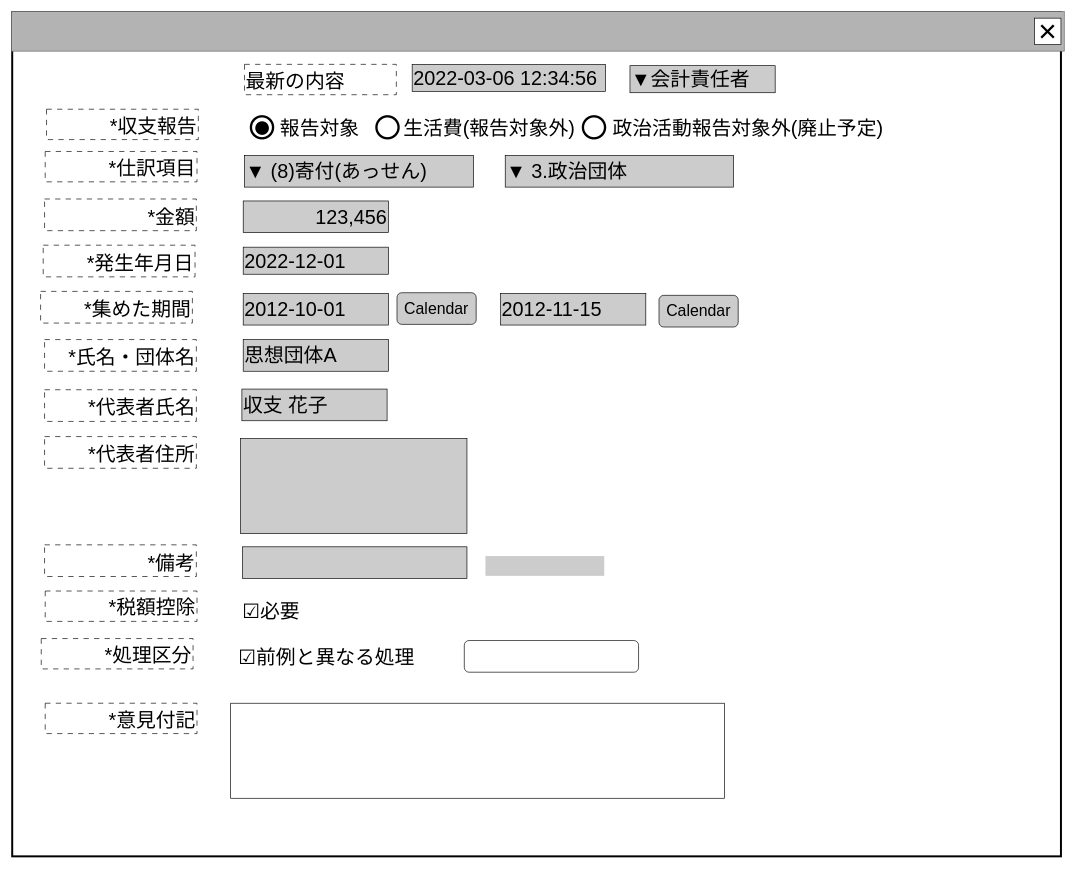
Image size: 1076x869. Some labels were removed from this diagram. Here are the shapes that lost their labels. From the top down, the centre of each, then its label:
pixel 353 486: 東京都千代田区霞が関
pixel 544 566: ☑遺贈
pixel 551 656: 保全された書証
pixel 477 750: 報告除外で処理されていますが、××という条文上の理由で報告するのが適当と思われます。
